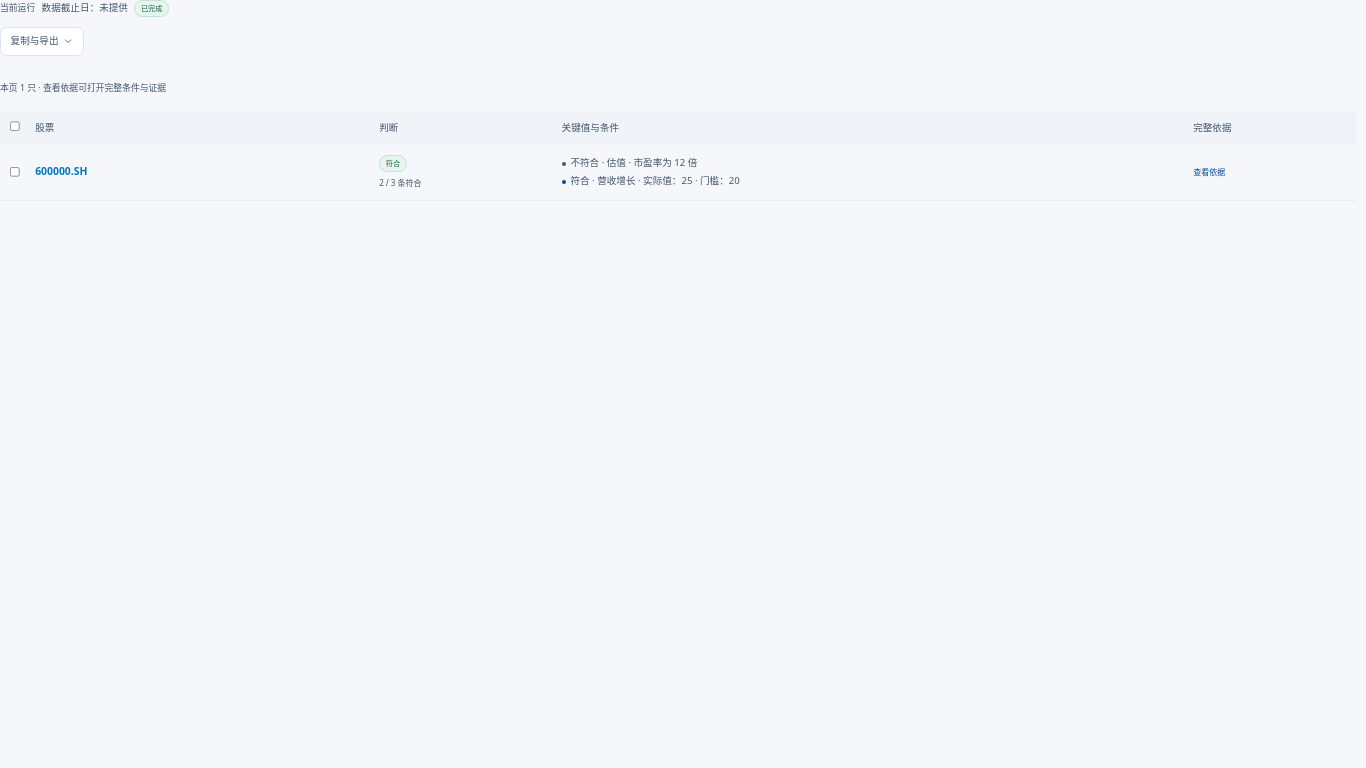
Scenario: shows compact evidence previews and opens full judgments in the sidebar
Check: the text "符合 · 营收增长 · 实际值：25 · 门槛：20" is shown, box [562, 174, 740, 187]
Check: the text "不符合 · 估值 · 市盈率为 12 倍" is shown, box [562, 156, 697, 169]
Click the button with aria-label "查看 600000.SH 条件与依据" at (1209, 172), box [1193, 165, 1225, 178]
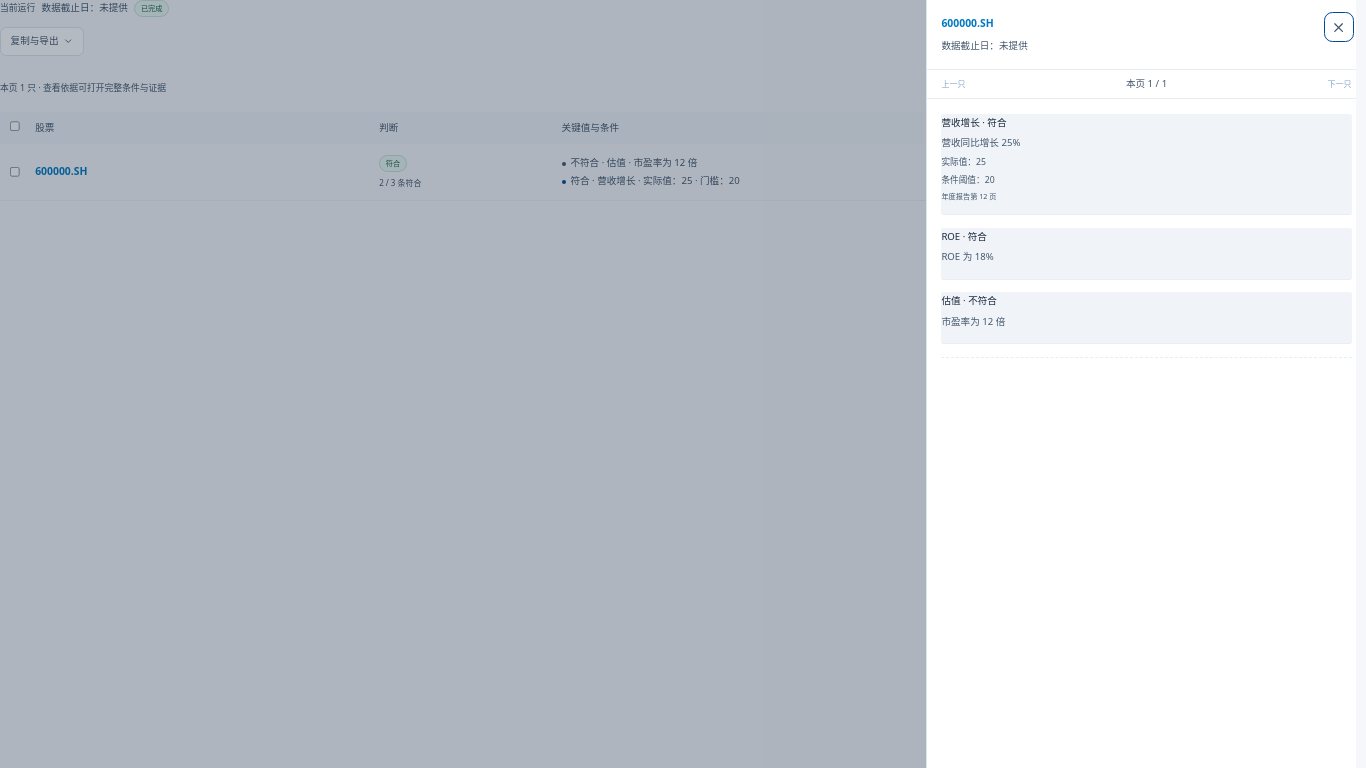
Check: the text "市盈率为 12 倍" is shown, box [941, 315, 1005, 328]
Check: the text "年度报告第 12 页" is shown, box [941, 191, 996, 201]
Check: the text "实际值：25" is shown, box [941, 156, 986, 168]
